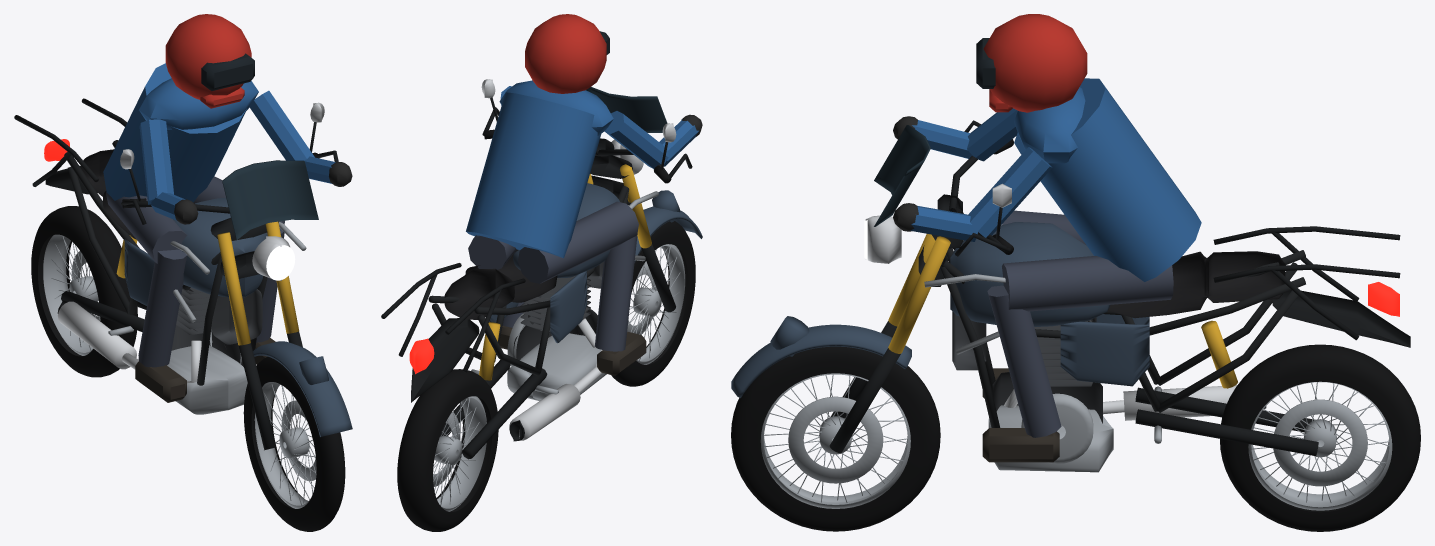
The model's file is himalayan450.glb.
The picture shows the model from 3 angles, left to right: view 1: azimuth 30°, elevation 25°; view 2: azimuth 150°, elevation 25°; view 3: azimuth 270°, elevation 25°; orthographic projection. The views are drawn at different scales.
Visible parts, largest first — view 1: body, fork, rider_torso, wheel_front, wheel_rear, rider_legs, rider_head; view 2: body, rider_torso, wheel_rear, rider_legs, fork, wheel_front, rider_head; view 3: body, rider_torso, wheel_rear, wheel_front, fork, rider_legs, rider_head.
Part boxes in pixels (bbox=[...]): body: bbox=[14, 98, 306, 414]; fork: bbox=[120, 102, 352, 450]; rider_torso: bbox=[103, 63, 352, 224]; wheel_front: bbox=[243, 356, 345, 531]; wheel_rear: bbox=[31, 206, 137, 377]; rider_legs: bbox=[106, 176, 284, 402]; rider_head: bbox=[165, 14, 254, 108]; body: bbox=[381, 183, 658, 459]; rider_torso: bbox=[466, 80, 702, 258]; wheel_rear: bbox=[397, 369, 498, 531]; rider_legs: bbox=[468, 201, 646, 375]; fork: bbox=[481, 79, 702, 312]; wheel_front: bbox=[611, 221, 695, 386]; rider_head: bbox=[525, 14, 609, 93]; body: bbox=[924, 222, 1410, 472]; rider_torso: bbox=[893, 78, 1201, 281]; wheel_rear: bbox=[1220, 344, 1420, 531]; wheel_front: bbox=[731, 346, 940, 531]; fork: bbox=[731, 120, 1013, 453]; rider_legs: bbox=[982, 210, 1173, 462]; rider_head: bbox=[976, 14, 1087, 112].
Bounding box in the file's own units: 0.85 × 1.76 × 2.15.
